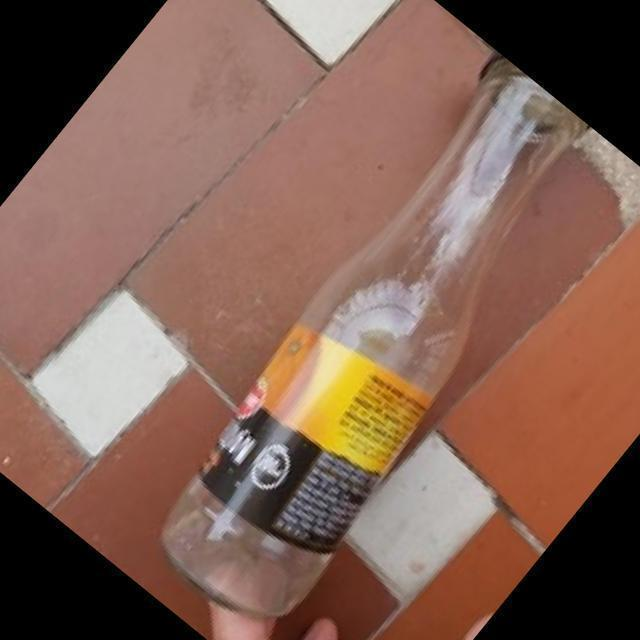BotolKaca: (157, 53, 617, 621)
